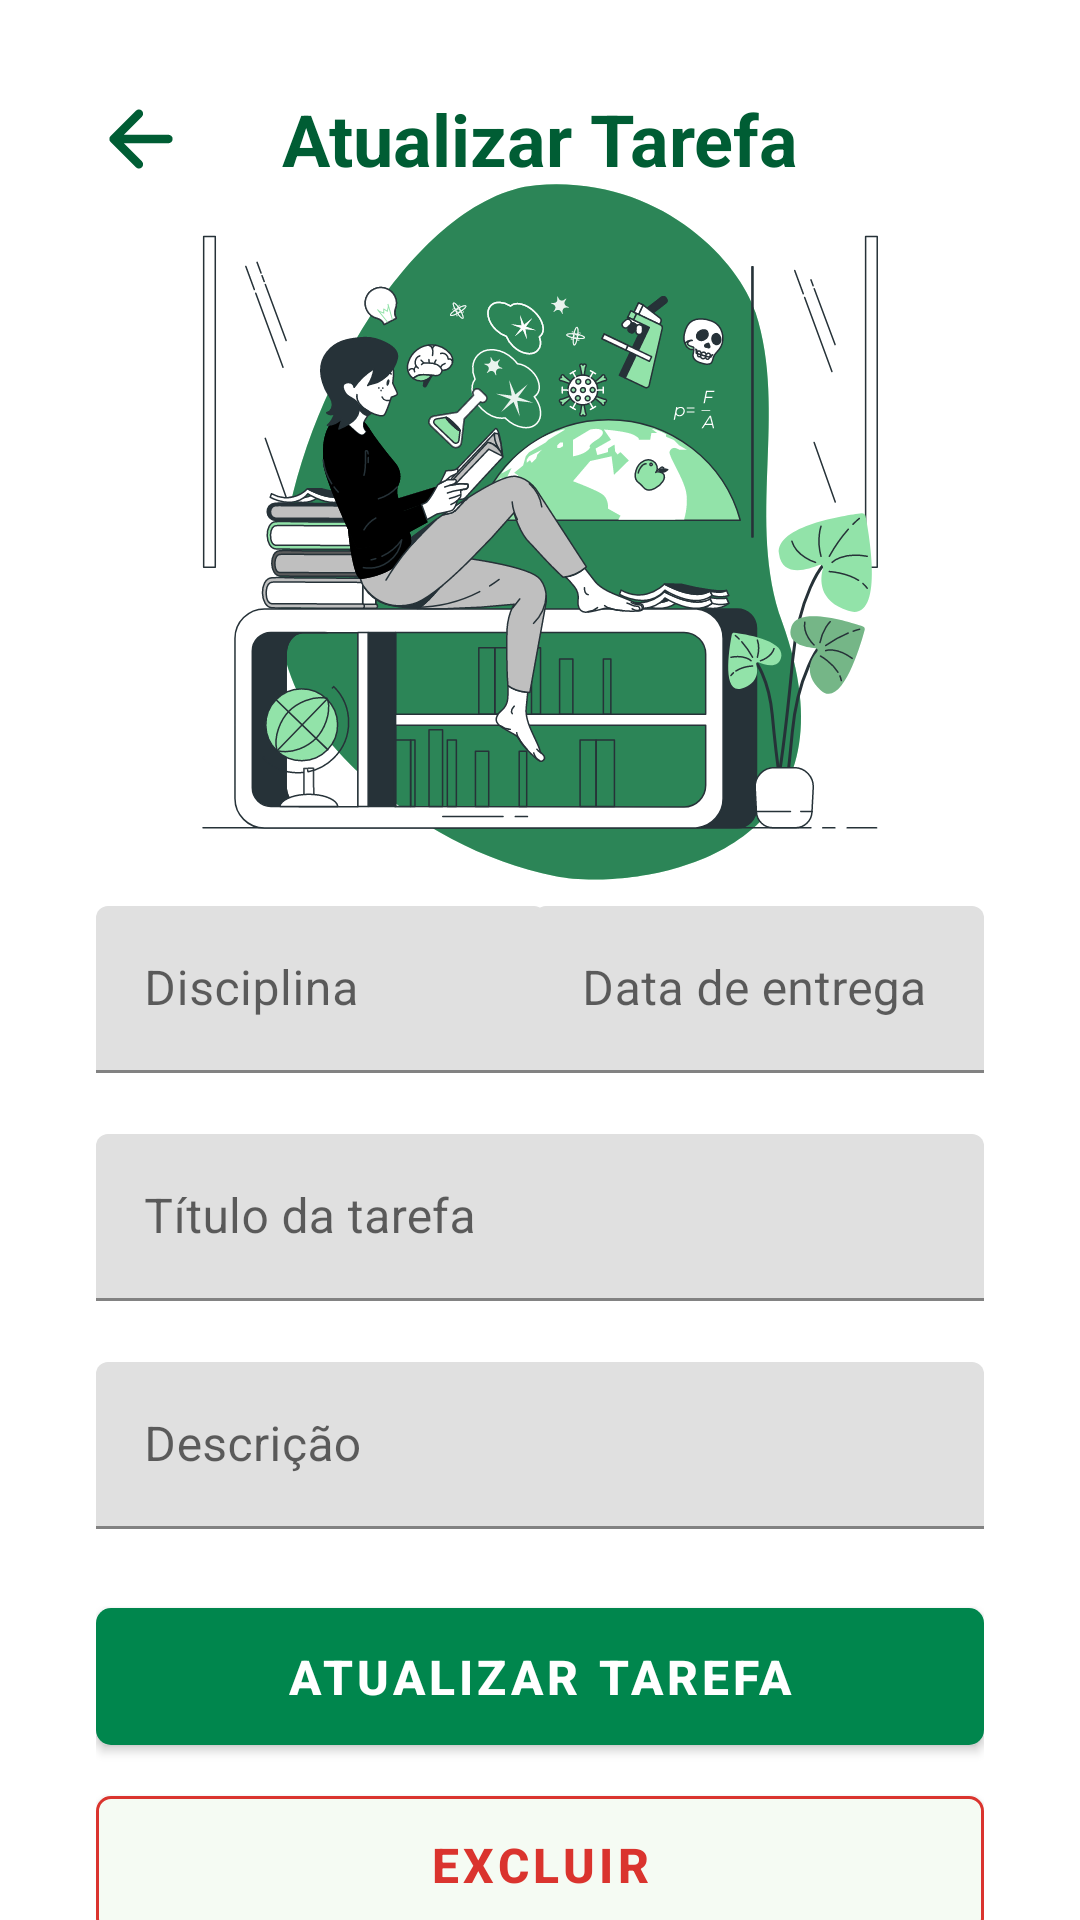

Icon click points for this 1080×1920 phone screenshot, format point (x, y):
back: point (141, 139)
